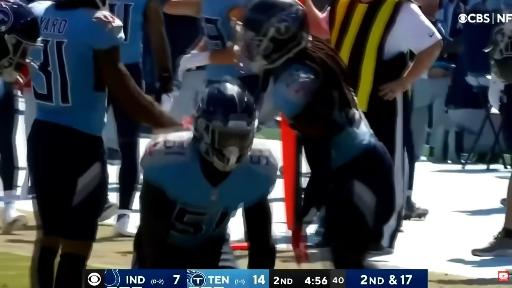Helmet: (194, 82, 257, 171), (236, 0, 310, 72), (0, 0, 39, 82), (486, 24, 511, 83), (54, 0, 108, 10)
Jersey: (141, 132, 278, 246), (30, 1, 124, 136), (273, 63, 322, 121), (202, 0, 252, 51), (109, 0, 148, 63), (332, 82, 364, 146)
Player: (27, 0, 179, 287), (237, 0, 395, 268), (134, 83, 277, 268), (164, 0, 264, 114), (109, 0, 172, 93)
